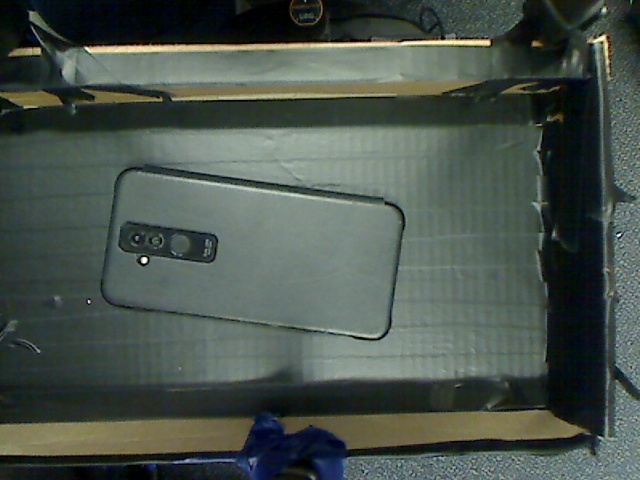phone: (90, 159, 407, 346)
